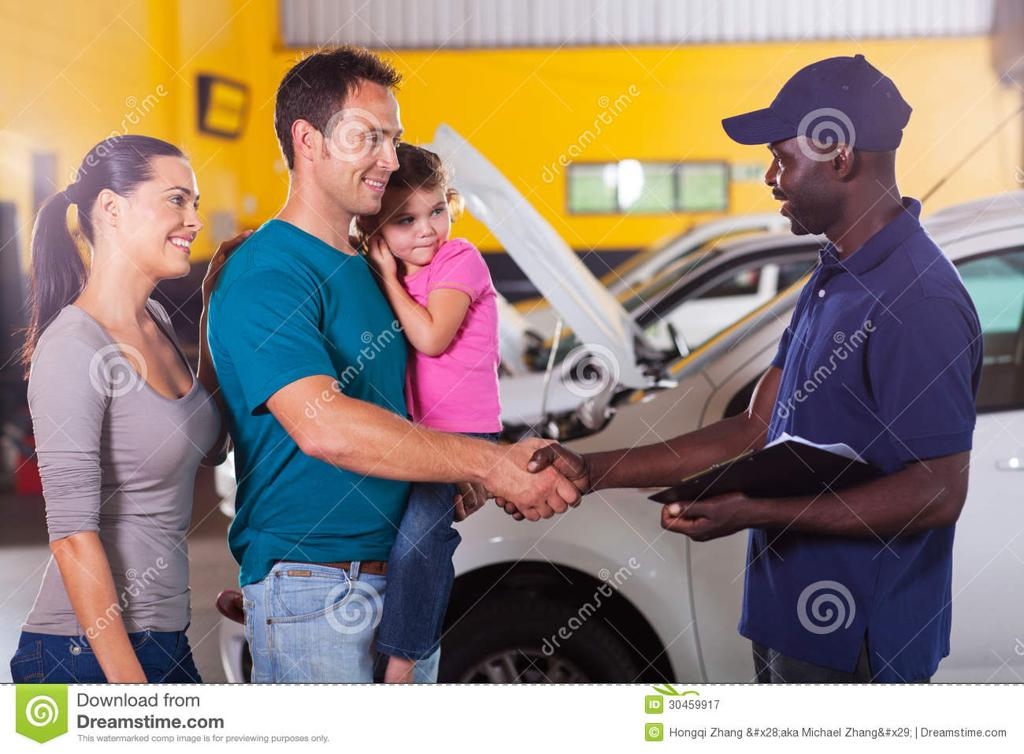face: (348, 86, 402, 214), (148, 158, 202, 276), (764, 124, 820, 236), (388, 190, 448, 264)
